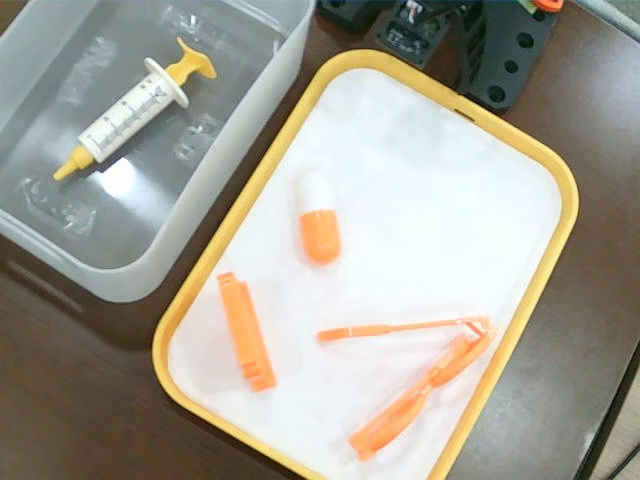pill: (293, 169, 346, 265)
syringe: (51, 37, 218, 180)
